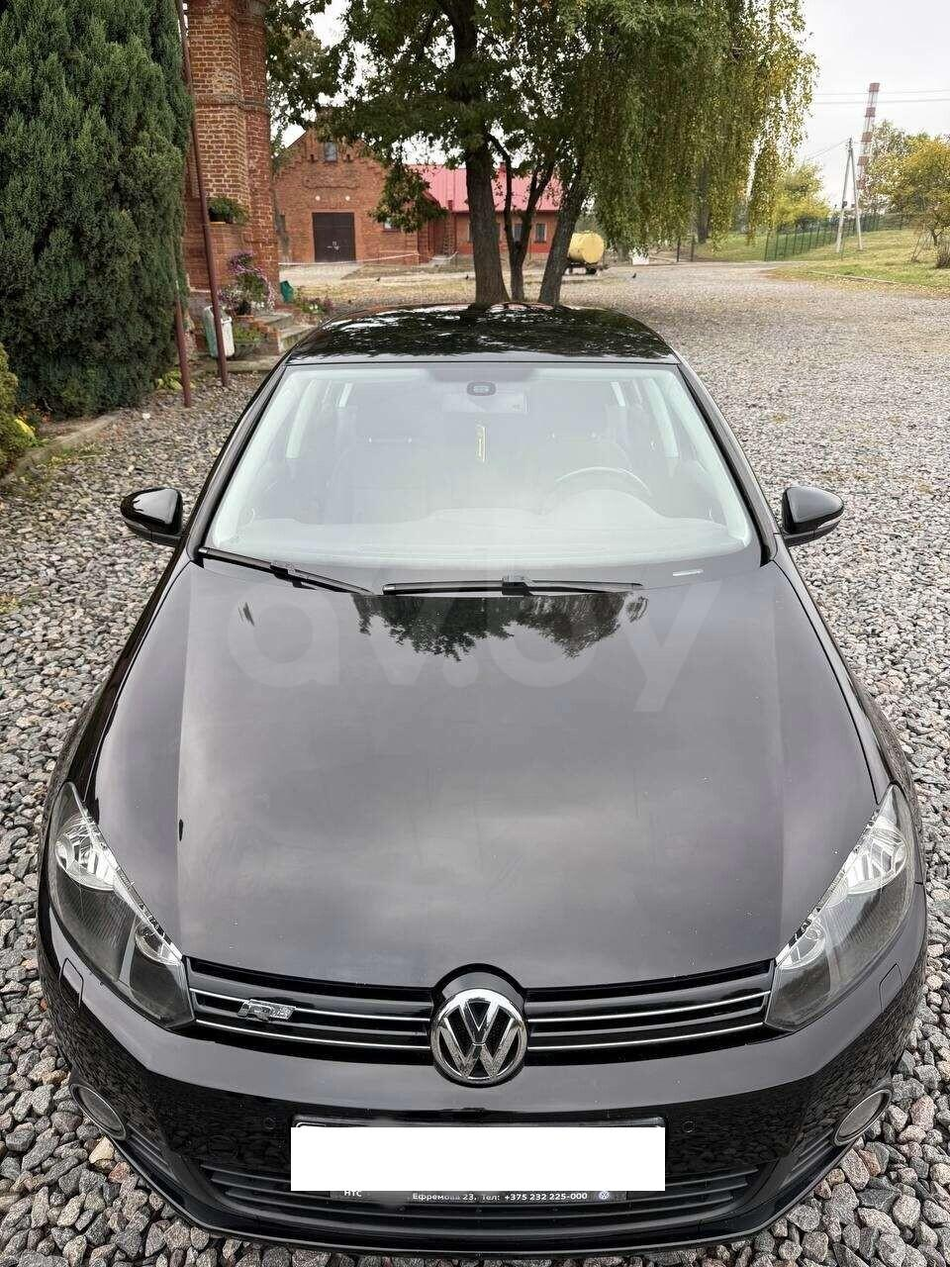Golf_2008-2013: (32, 295, 924, 1233)
